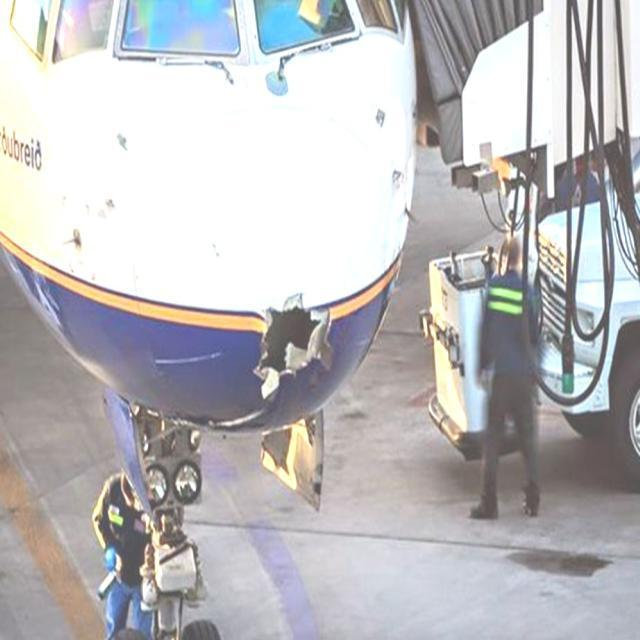crack: (252, 294, 332, 383)
